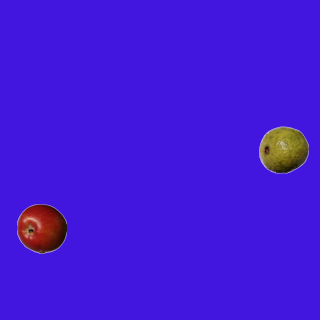Apple Braeburn: (16, 203, 66, 253)
Guava: (258, 124, 308, 174)
